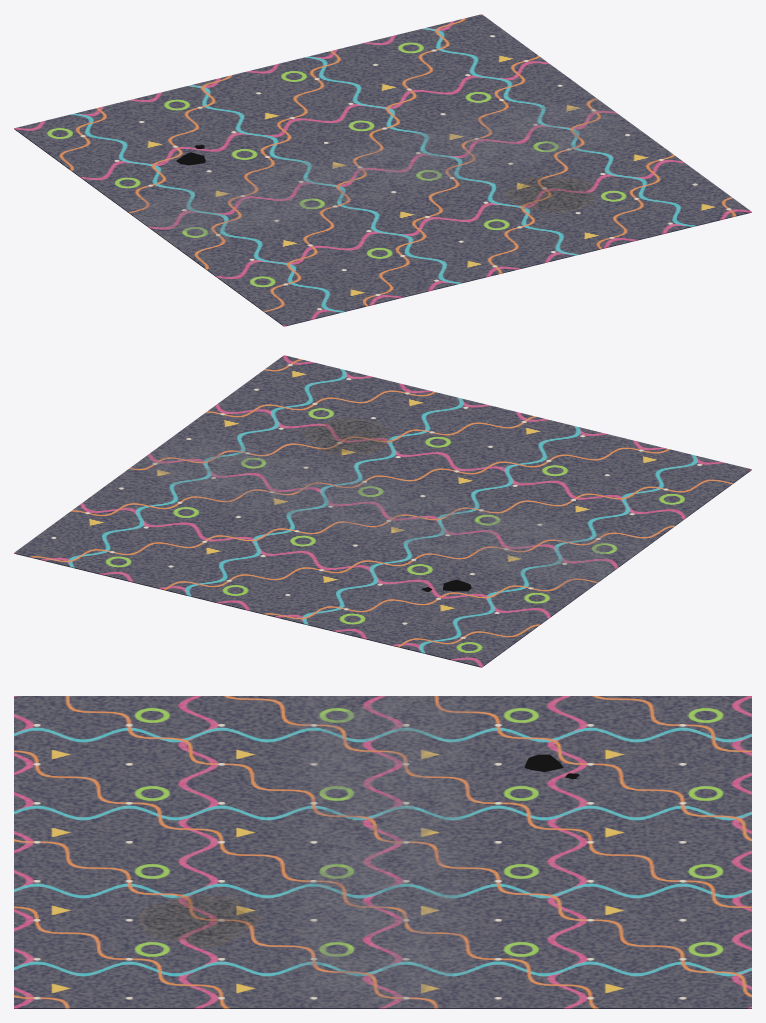
Rendered from carpet_party.fbx.
The picture shows the model from 3 angles, top to bottom: view 1: azimuth 30°, elevation 25°; view 2: azimuth 150°, elevation 25°; view 3: azimuth 270°, elevation 25°; orthographic projection. The views are drawn at different scales.
Parts seen in each view (by area): view 1: Body; view 2: Body; view 3: Body.
Part boxes in pixels (x1=…): Body: x1=14, y1=14, x2=751, y2=326; Body: x1=14, y1=355, x2=751, y2=667; Body: x1=14, y1=696, x2=751, y2=1008.
Bounding box in the file's own units: 32 × 0.06 × 32.
Materials: 1 (1 with a texture image).
